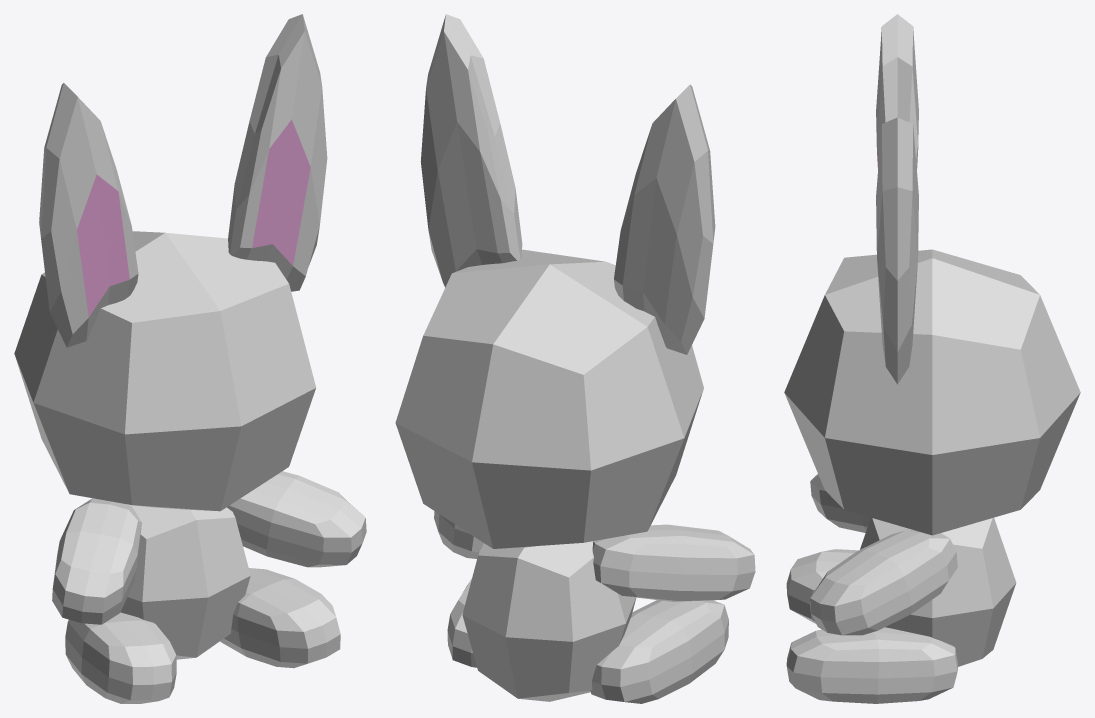
File: Rabbit_toy.fbx
3 views of the same model, side by side, from view 1: azimuth 30°, elevation 25°; view 2: azimuth 150°, elevation 25°; view 3: azimuth 270°, elevation 25° (orthographic). The views are drawn at different scales.
Visible parts, largest first — view 1: Rabbit_toy; view 2: Rabbit_toy; view 3: Rabbit_toy.
Boxes of the visible parts, <box> form: Rabbit_toy: <box>14,14,366,703</box>; Rabbit_toy: <box>395,14,755,703</box>; Rabbit_toy: <box>784,14,1080,703</box>.
Bounding box in the file's own units: 14.4 × 28.61 × 12.51.
